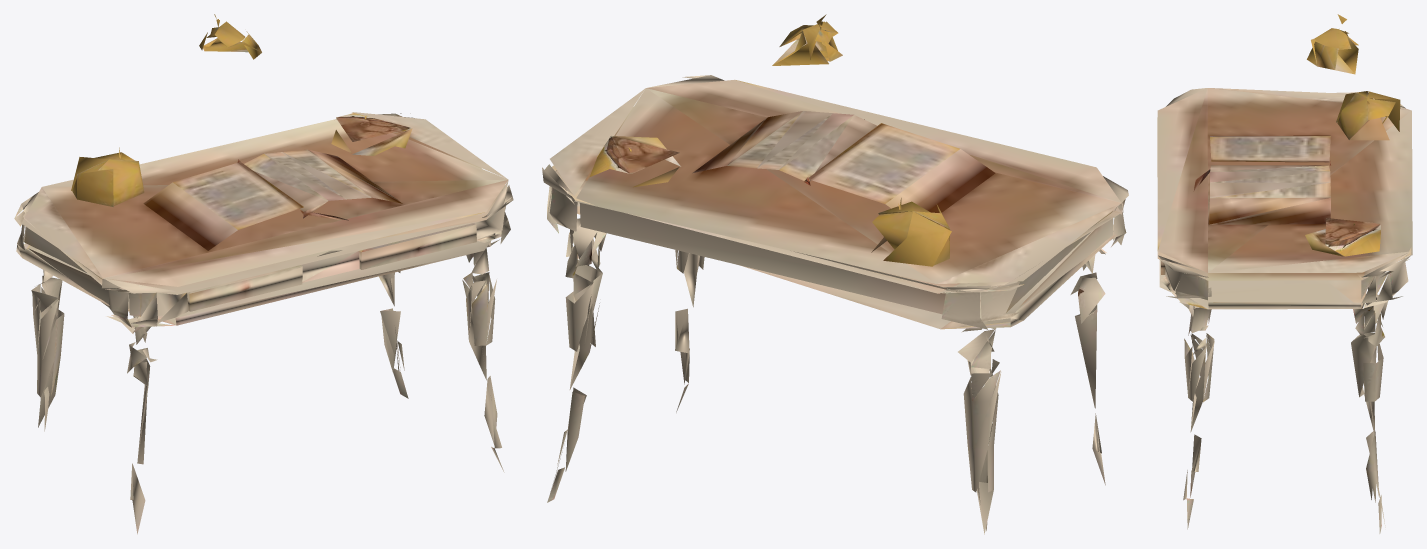
File: journal-desk.lod1.glb
The picture shows the model from 3 angles, left to right: view 1: azimuth 30°, elevation 25°; view 2: azimuth 150°, elevation 25°; view 3: azimuth 270°, elevation 25°; orthographic projection. The views are drawn at different scales.
Visible parts, largest first — view 1: journal-desk_lod1; view 2: journal-desk_lod1; view 3: journal-desk_lod1.
Boxes of the visible parts, bbox=[...] form: journal-desk_lod1: bbox=[14, 14, 513, 534]; journal-desk_lod1: bbox=[542, 14, 1128, 534]; journal-desk_lod1: bbox=[1157, 14, 1412, 533].
Size of the model in its own units: 1.03 by 1.1 by 0.6005.
Materials: 1 (1 with a texture image).
